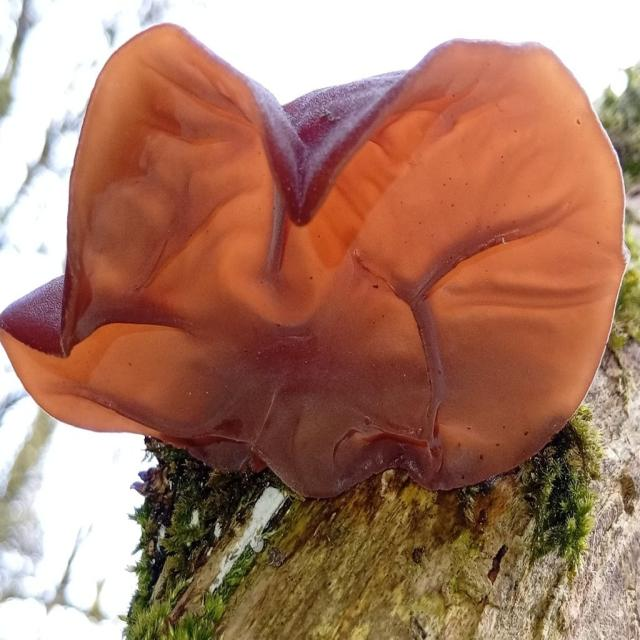Matang: (4, 16, 632, 506)
